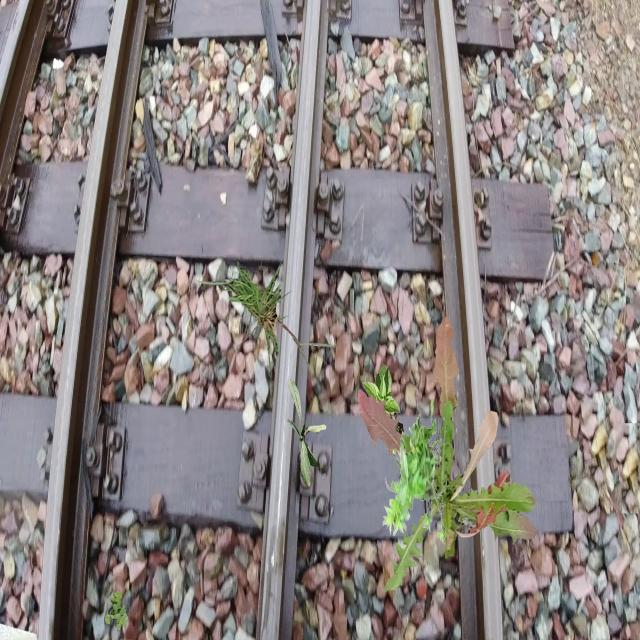Plant: (358, 315, 538, 593), (189, 258, 332, 378), (383, 400, 448, 544), (362, 363, 410, 458), (287, 378, 327, 488), (105, 590, 129, 631)
